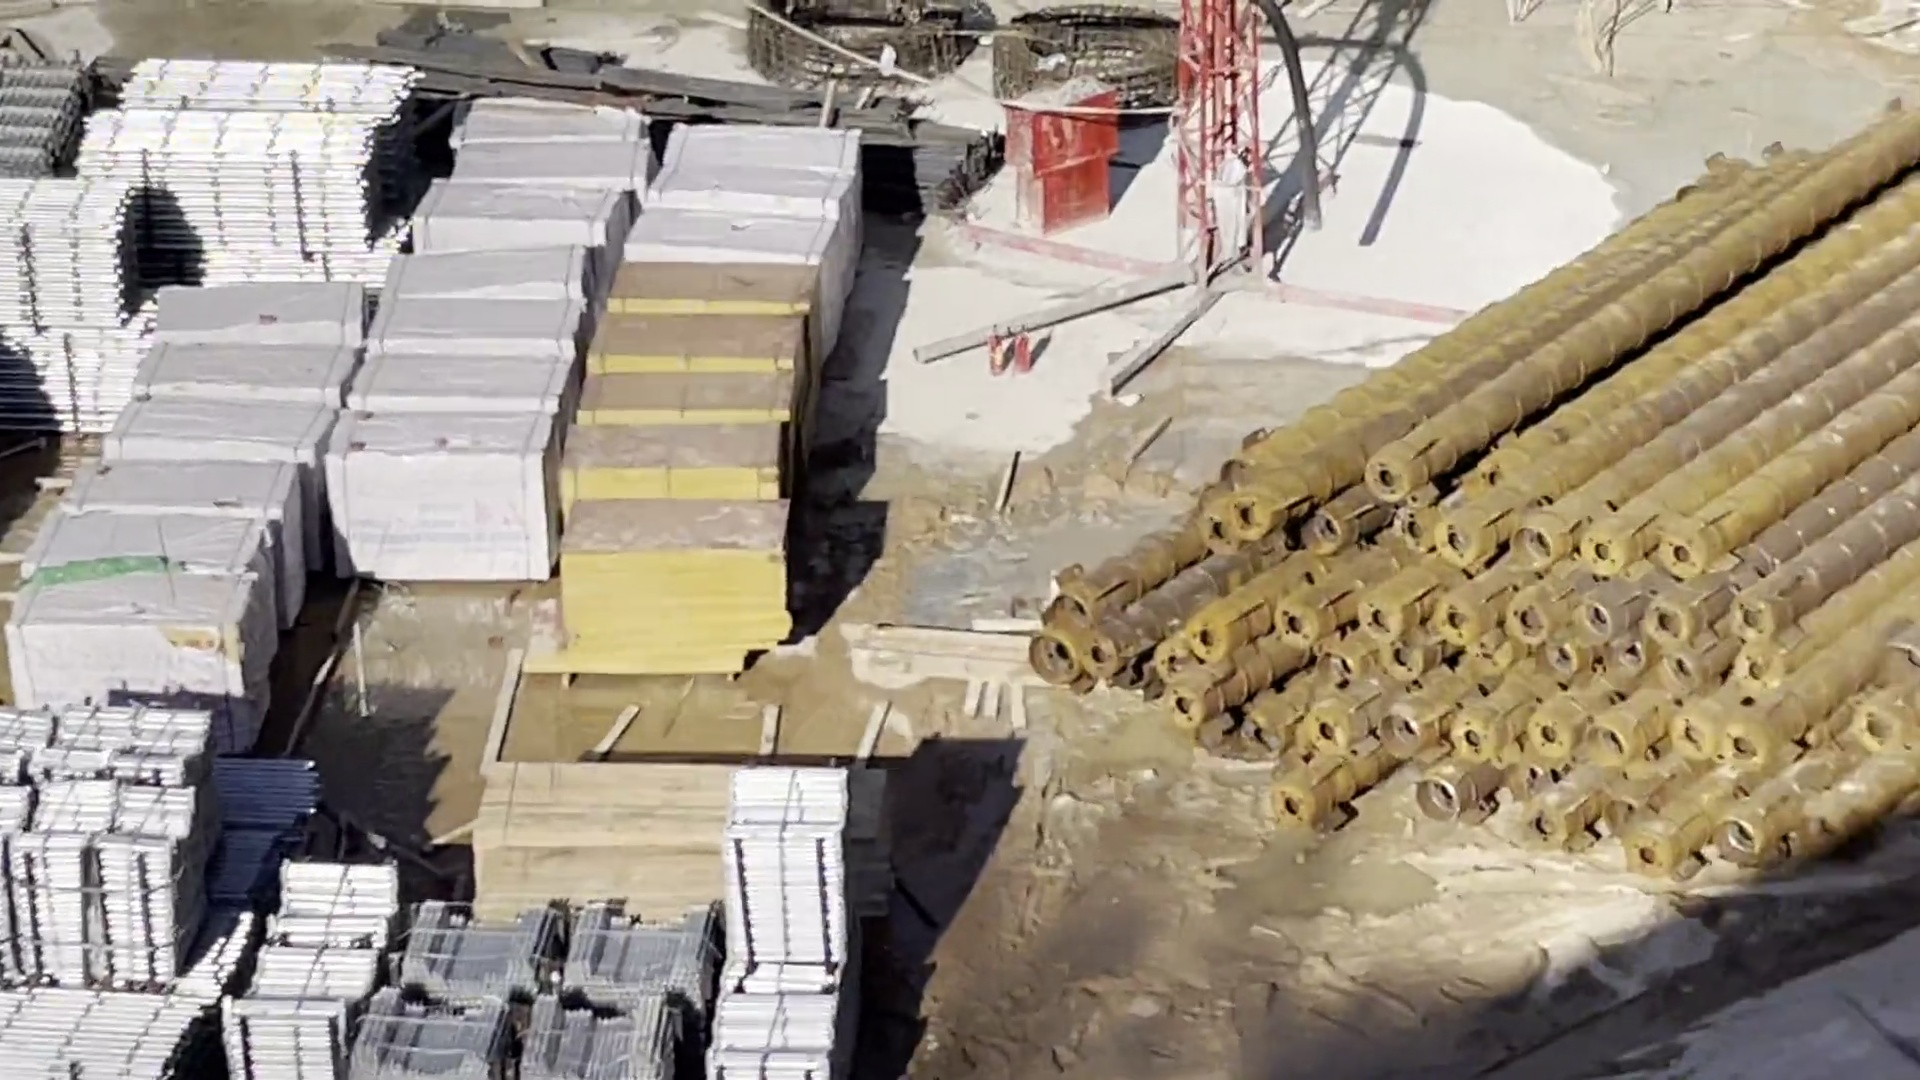board: (554, 264, 789, 665), (477, 764, 735, 913)
rebar: (521, 69, 997, 203)
scaffold: (88, 65, 411, 268), (1, 708, 225, 971), (367, 911, 702, 1080), (709, 775, 843, 1080), (1, 185, 135, 440), (239, 869, 389, 1080), (1, 996, 204, 1071)
